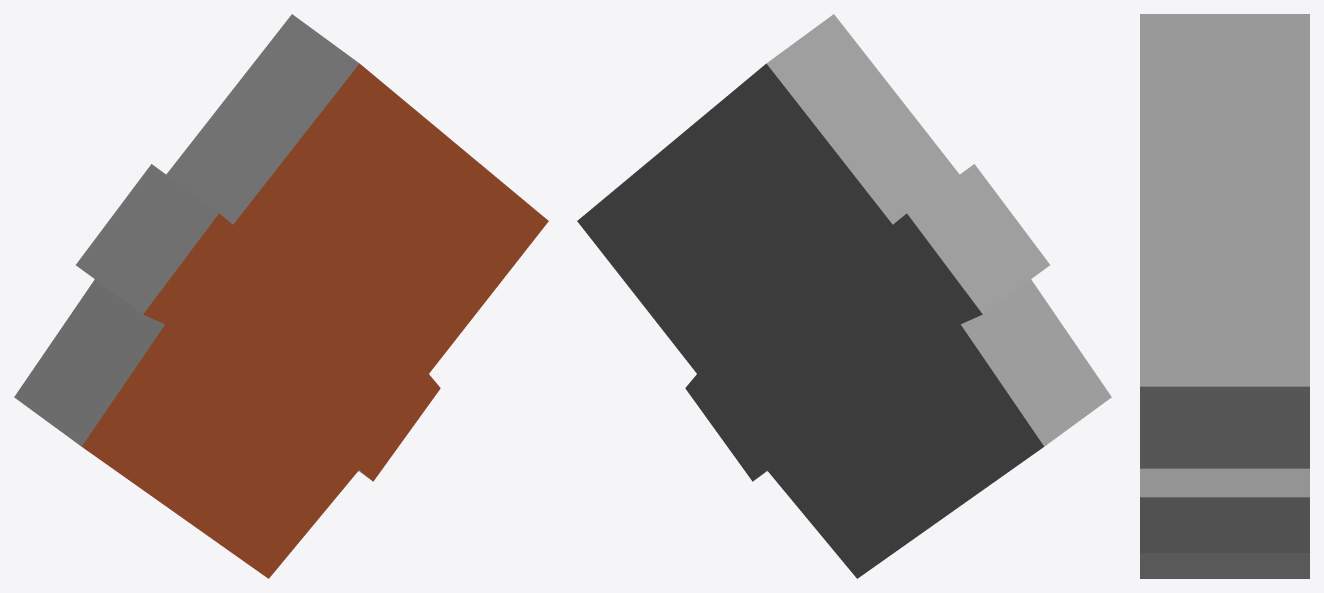
File: construction_5341_assumed_A_Casa_h6m.obj
3 views of the same model, side by side, from view 1: azimuth 30°, elevation 25°; view 2: azimuth 150°, elevation 25°; view 3: azimuth 270°, elevation 25° (orthographic). The views are drawn at different scales.
Parts seen in each view (by area): view 1: construction_5341_assumed_A_Casa; view 2: construction_5341_assumed_A_Casa; view 3: construction_5341_assumed_A_Casa.
Boxes of the visible parts, left/top/right/bottom form: construction_5341_assumed_A_Casa: left=14, top=14, right=548, bottom=578; construction_5341_assumed_A_Casa: left=577, top=14, right=1111, bottom=578; construction_5341_assumed_A_Casa: left=1140, top=14, right=1309, bottom=578.
Bounding box in the file's own units: 23.96 × 24.17 × 6.
